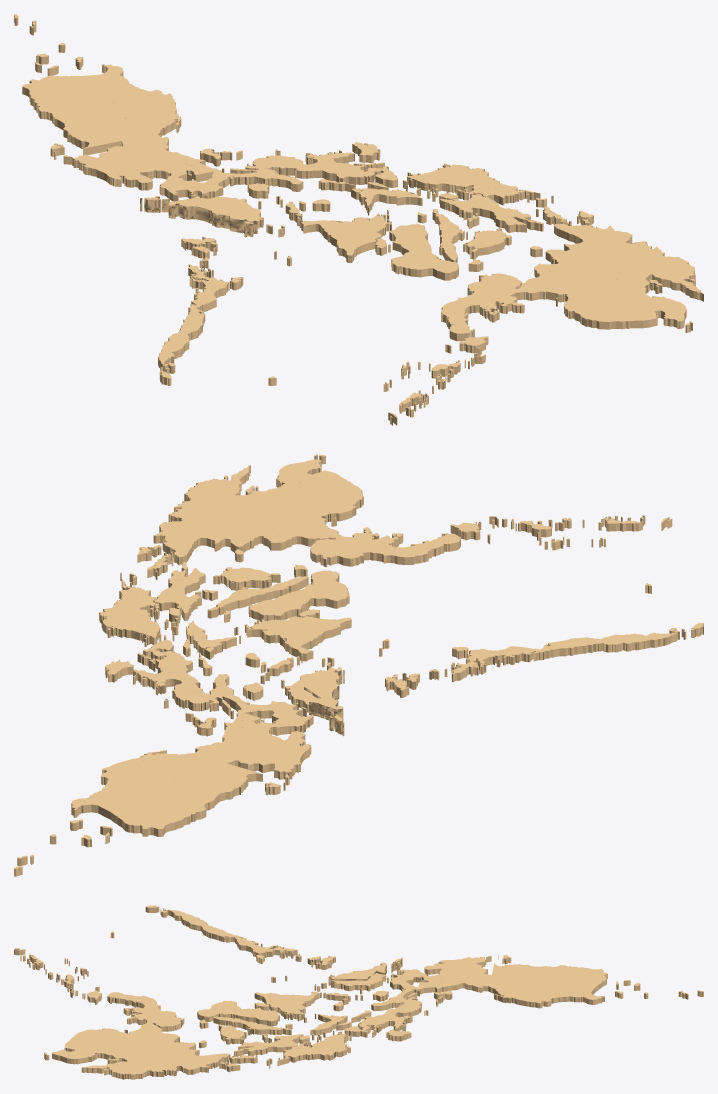
Rendered from xpnsr.glb.
3 views of the same model, one above another, from view 1: azimuth 30°, elevation 25°; view 2: azimuth 150°, elevation 25°; view 3: azimuth 270°, elevation 25° (orthographic). The views are drawn at different scales.
Parts seen in each view (by area): view 1: PH-PLW, PH-MDC, PH-QUE, PH-CAG, PH-MAS, PH-ISA, PH-NEC, PH-WSA, PH-CAS, PH-LEY, PH-BUK, PH-AGS (+30 smaller); view 2: PH-PLW, PH-CAG, PH-QUE, PH-ZAN, PH-NEC, PH-CEB, PH-MDC, PH-ISA, PH-LEY, PH-BUK, PH-AGS, PH-CAS (+33 smaller); view 3: PH-PLW, PH-QUE, PH-CAG, PH-ISA, PH-CEB, PH-DAS, PH-DAO, PH-MAS, PH-MDC, PH-EAS, PH-SUR, PH-NEC (+30 smaller).
Boxes of the visible parts, x1,y1,x2,y2 form: PH-PLW: (158,236,291,385); PH-MDC: (140,196,257,237); PH-QUE: (172,148,303,191); PH-CAG: (35,43,138,95); PH-MAS: (318,179,422,215); PH-ISA: (112,88,176,120); PH-NEC: (389,223,427,276); PH-WSA: (416,171,504,205); PH-CAS: (272,149,354,180); PH-LEY: (440,194,513,231); PH-BUK: (554,254,620,285); PH-AGS: (580,233,658,265); PH-PLW: (379,622,703,697); PH-CAG: (50,784,144,847); PH-QUE: (185,674,276,741); PH-ZAN: (320,540,457,567); PH-NEC: (248,586,349,621); PH-CEB: (195,576,308,622); PH-MDC: (304,667,344,736); PH-ISA: (101,758,178,790); PH-LEY: (153,575,204,621); PH-BUK: (229,506,288,536); PH-AGS: (179,503,240,539); PH-CAS: (133,666,204,695); PH-PLW: (145,905,335,982); PH-QUE: (371,980,458,1011); PH-CAG: (558,975,648,1004); PH-ISA: (510,982,559,1008); PH-CEB: (213,1016,292,1042); PH-DAS: (52,1048,135,1064); PH-DAO: (81,1063,153,1079); PH-MAS: (310,1010,371,1035); PH-MDC: (328,957,402,987); PH-EAS: (266,1048,336,1068); PH-SUR: (150,1059,216,1077); PH-NEC: (214,1000,279,1026).
Size of the model in its own units: 43.01 by 1.04 by 73.96.
